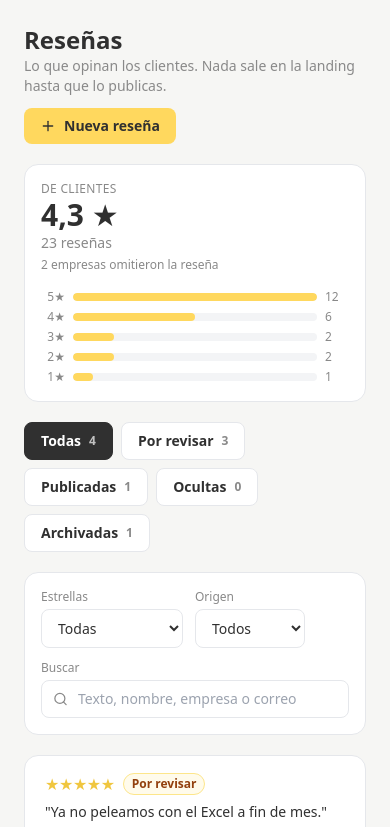
Test case: AdminResenas › filtra por estrellas, por origen y con el buscador (R16)
Select "Manuales" in the dropdown labelled "Origen": (250, 628) [195, 609, 305, 648]
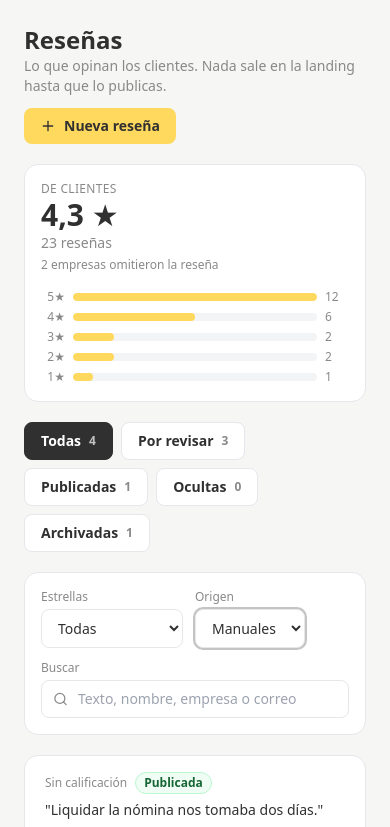
Expected: the text "\"Liquidar la nómina nos tomaba dos días.\"" is shown, [45, 800, 345, 820]
Result: the text "Ya no peleamos" is gone
Select "Todos" in the dropdown labelled "Origen": (250, 628) [195, 609, 305, 648]
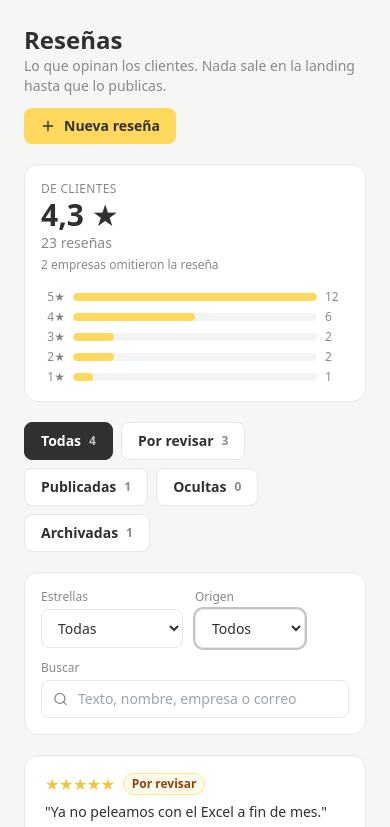
Select "2 ★" in the dropdown labelled "Estrellas": (112, 628) [41, 609, 183, 648]
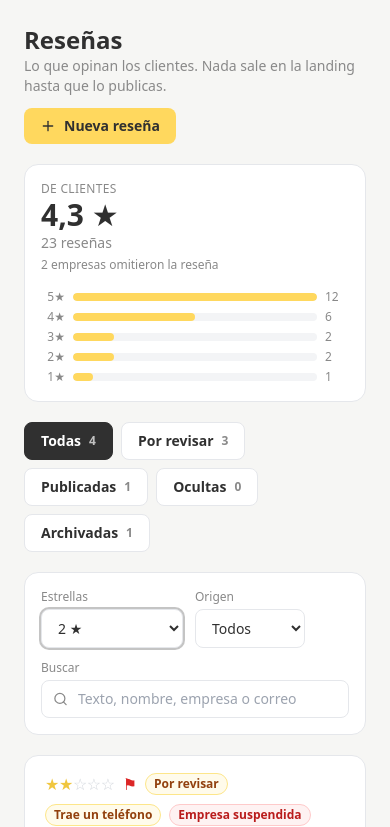
Expected: the text "Liquidar la nómina" is not shown
Select "Todas" in the dropdown labelled "Estrellas": (112, 628) [41, 609, 183, 648]
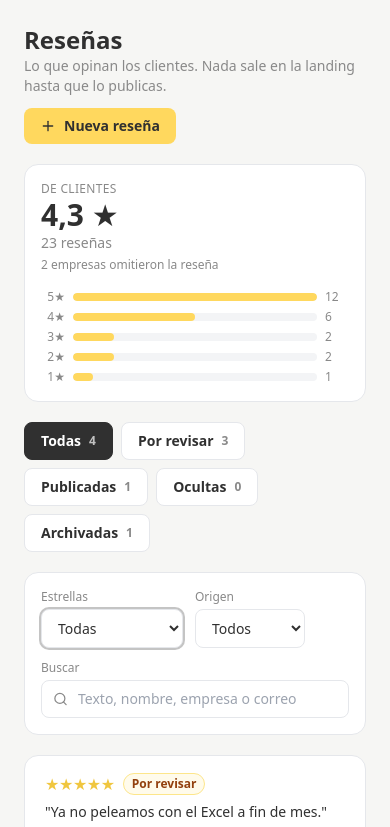
In the field labelled "Buscar": (195, 699) [41, 680, 349, 718], type "ana@brisas"
(page scrolled)
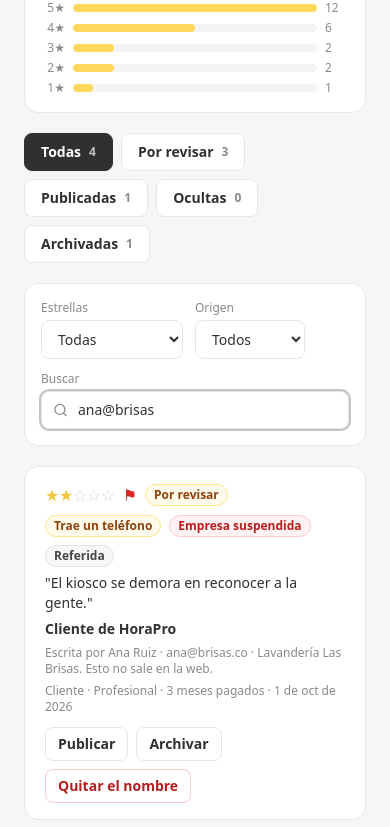
Result: the text "\"El kiosco se demora en reconocer a la gente.\"" is shown at [45, 573, 297, 612]
Result: the text "Ya no peleamos" is gone
